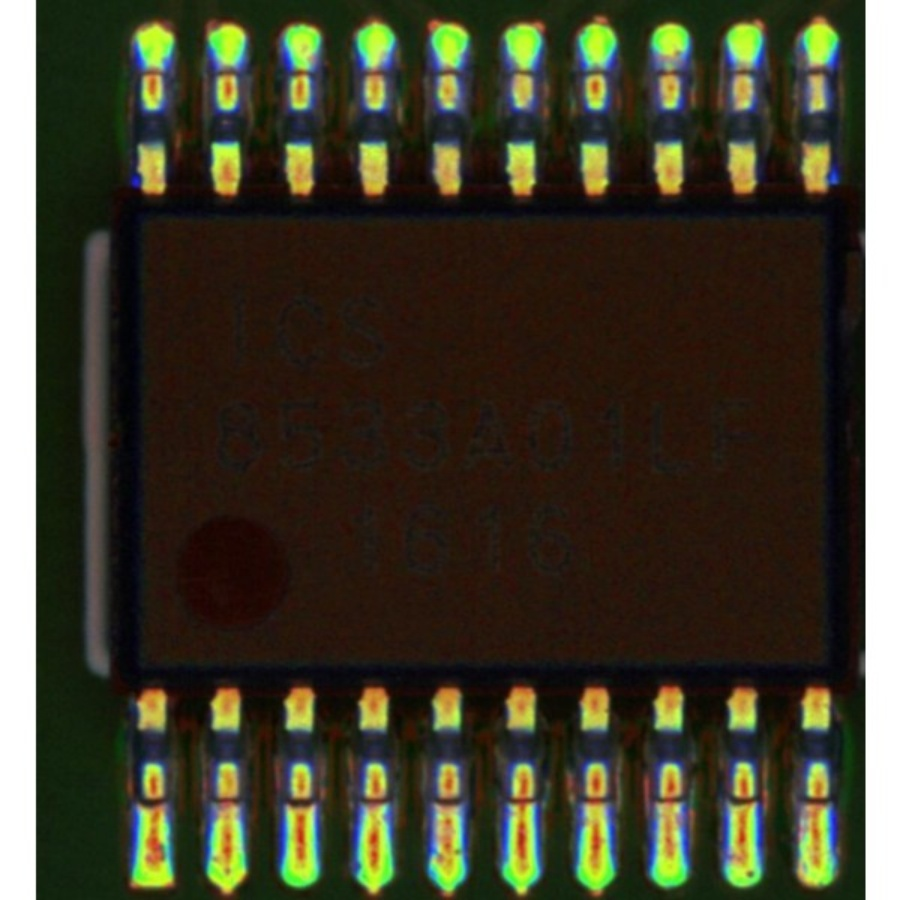Bad_podu: (806, 791, 827, 833), (436, 791, 459, 829), (658, 790, 678, 832), (214, 789, 239, 820), (289, 791, 310, 826), (364, 788, 388, 818), (732, 790, 752, 826), (144, 790, 166, 822), (510, 790, 537, 814), (583, 790, 608, 813)
